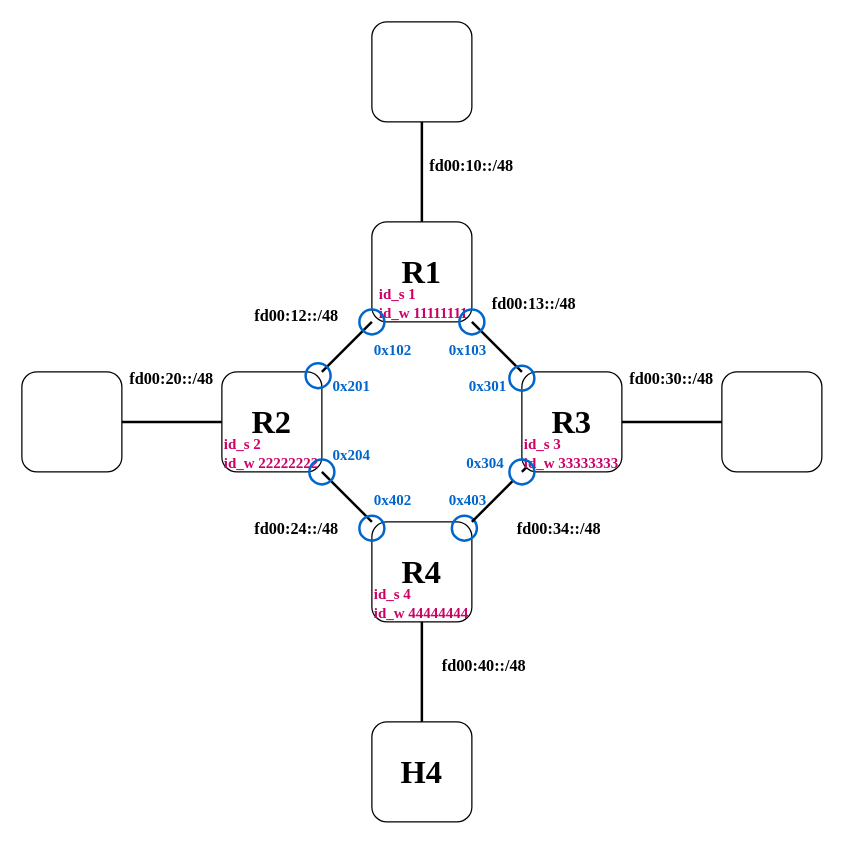
The diagram is 844 pixels wide and 844 high, and some of its shapes have lost their labels. Here are the shapes that lost their labels. From the top down, the centre of each, then its label:
[421,71]: H1
[71,421]: H2
[771,421]: H3
